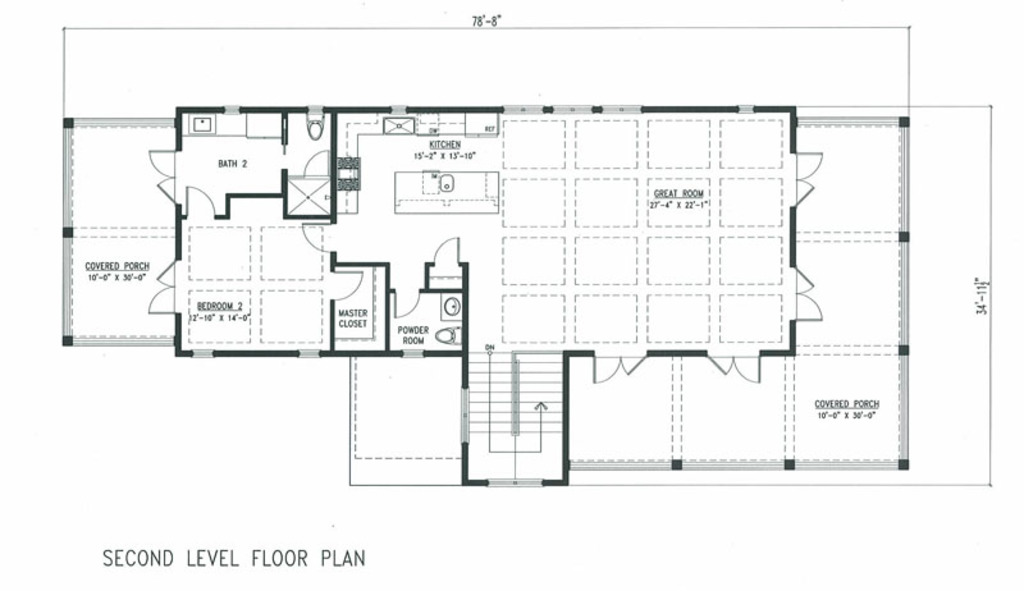door: (589, 348, 648, 384), (709, 348, 763, 387), (793, 263, 827, 323), (146, 148, 178, 208), (146, 256, 176, 317), (793, 149, 825, 204), (182, 183, 219, 219), (327, 266, 365, 300), (300, 221, 332, 257), (432, 235, 462, 268), (392, 289, 421, 320), (304, 149, 332, 180)
kitchen_bar: (392, 170, 500, 219)
large_sink: (429, 326, 463, 344), (303, 113, 324, 140)
small_sink: (185, 113, 219, 136), (439, 292, 463, 323)
stairs: (467, 344, 567, 481)
windows: (501, 103, 647, 117), (461, 387, 471, 443), (731, 103, 759, 116), (399, 350, 429, 361), (297, 347, 323, 359), (190, 348, 214, 359)
